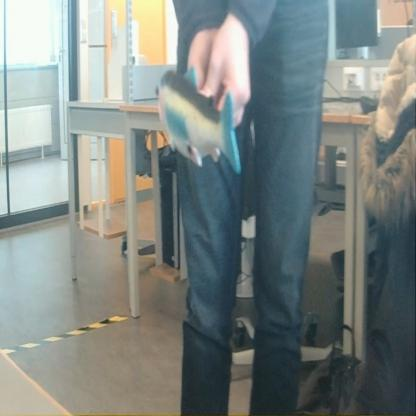rubberfish: (152, 59, 244, 178)
